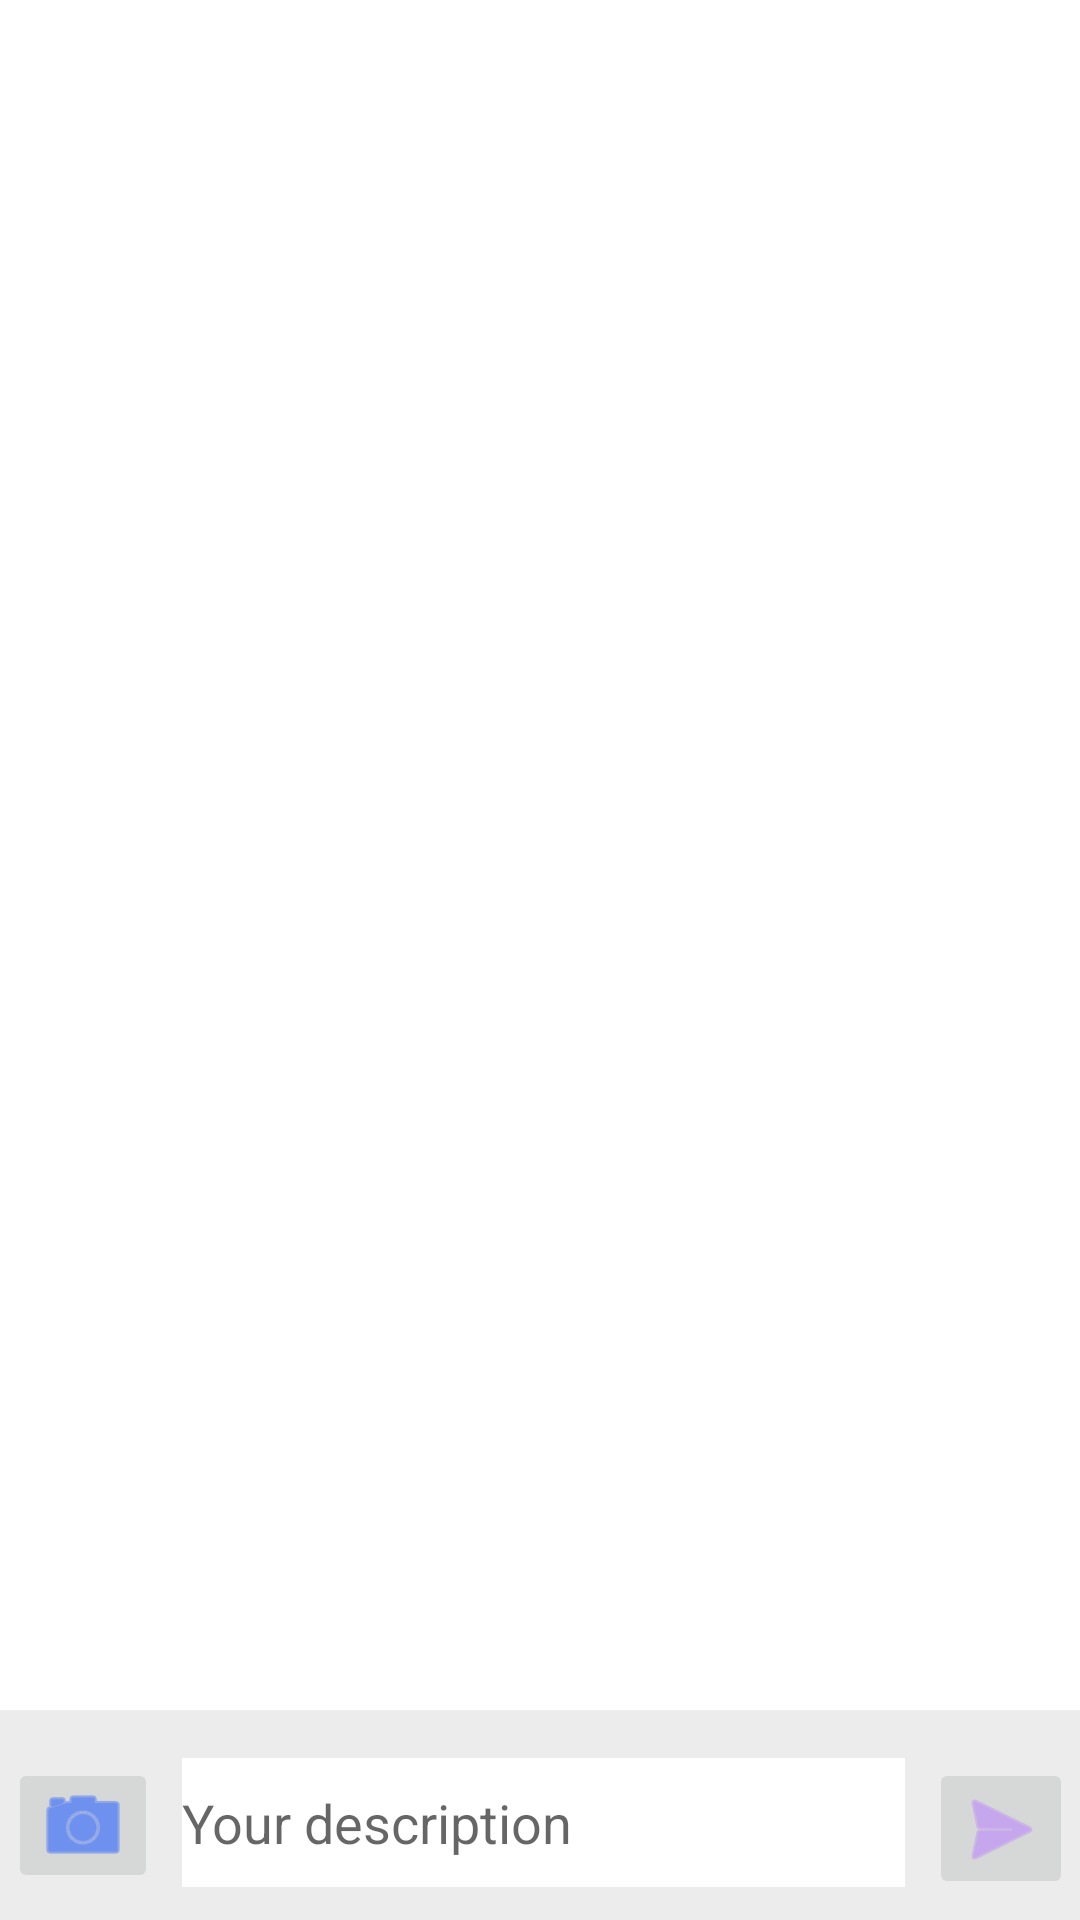

Screen size 1080 x 1920. Icon name, then its box in pixels as (x1, y1, x2, y2):
camera: (46, 1795, 120, 1854)
send: (971, 1799, 1033, 1860)
